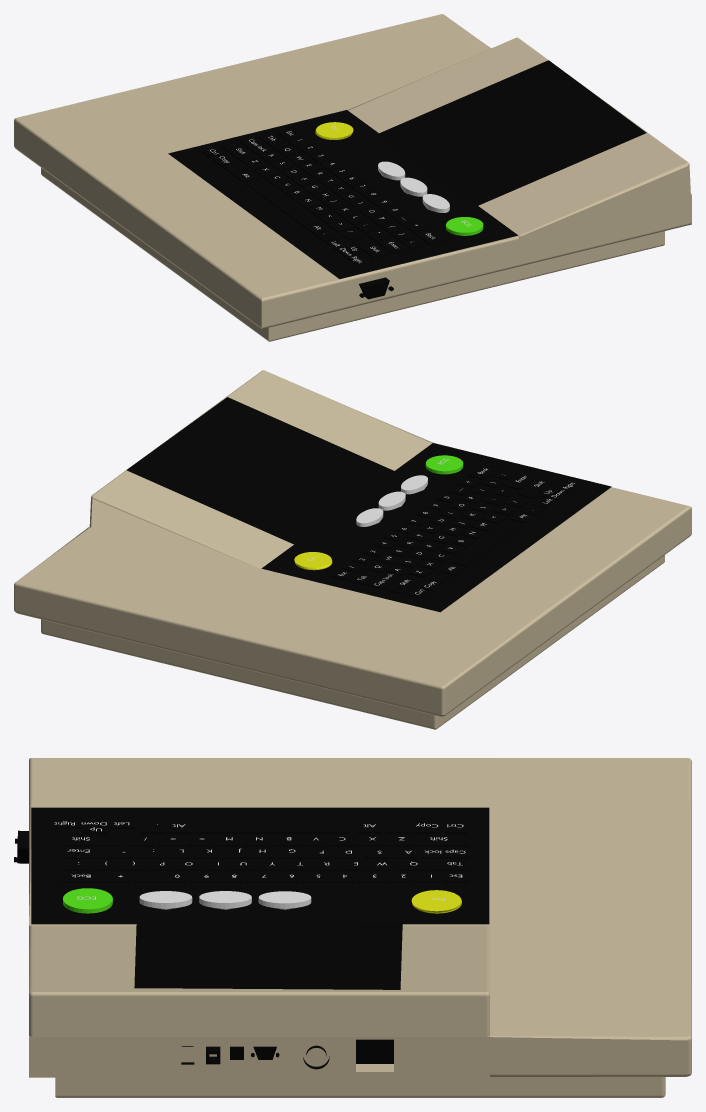
File: Electrocar.glb
3 renders of one model, top to bottom at view 1: azimuth 30°, elevation 25°; view 2: azimuth 150°, elevation 25°; view 3: azimuth 270°, elevation 25°, orthographic. The views are drawn at different scales.
Visible parts, largest first — view 1: Plane, Plane.003, Plane.001, Circle.002, Circle; view 2: Plane, Plane.003, Plane.001, Circle.002, Circle; view 3: Plane, Plane.003, Plane.001, Circle.002, Circle, Circle.004, Circle.003, Circle.001.
Boxes of the visible parts, bbox=[...] form: Plane: bbox=[14, 14, 691, 341]; Plane.003: bbox=[168, 110, 518, 299]; Plane.001: bbox=[378, 60, 646, 206]; Circle.002: bbox=[446, 217, 483, 235]; Circle: bbox=[315, 122, 353, 139]; Plane: bbox=[14, 370, 691, 729]; Plane.003: bbox=[262, 443, 611, 612]; Plane.001: bbox=[126, 397, 395, 544]; Circle.002: bbox=[425, 455, 463, 474]; Circle: bbox=[294, 552, 332, 570]; Plane: bbox=[29, 758, 691, 1097]; Plane.003: bbox=[14, 807, 489, 1064]; Plane.001: bbox=[134, 921, 402, 989]; Circle.002: bbox=[63, 888, 112, 913]; Circle: bbox=[411, 890, 461, 913]; Circle.004: bbox=[139, 891, 192, 909]; Circle.003: bbox=[199, 891, 251, 909]; Circle.001: bbox=[258, 891, 311, 909].
Size of the model in its own units: 2.05 by 0.3965 by 2.06.
